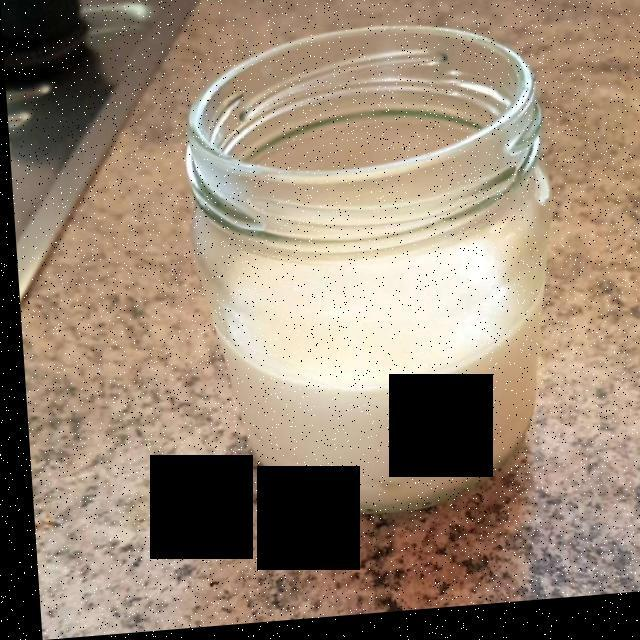yogurt: (210, 236, 538, 512)
